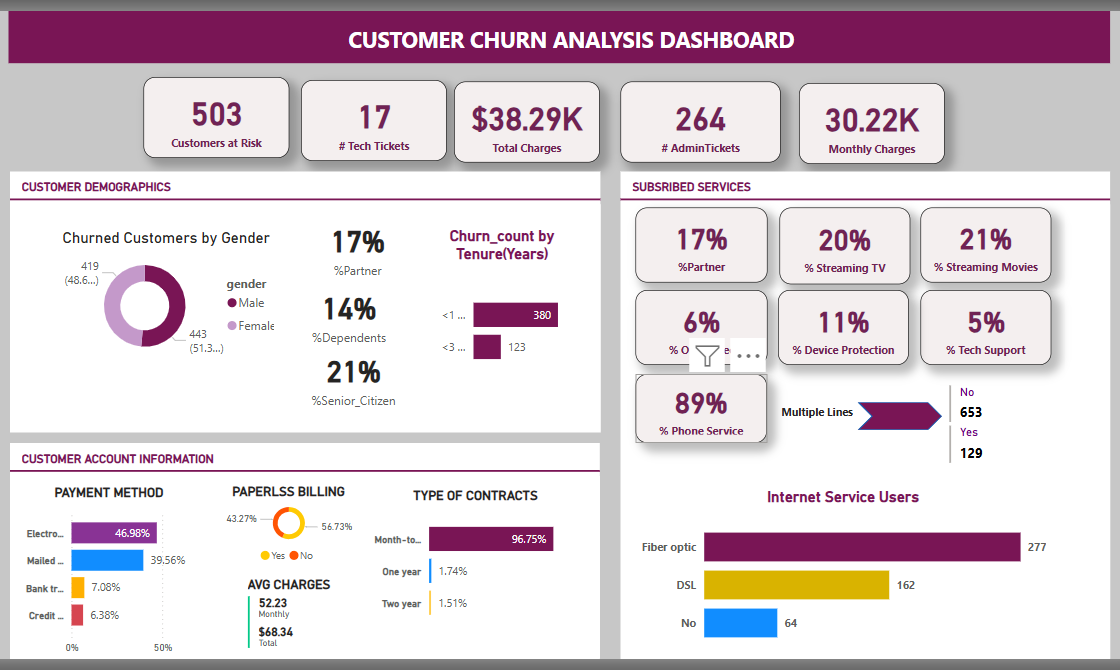

Layout of this report page (visuals, bound fields, positions):
{"tool":"powerbi","page":{"name":"Page 1","canvas":[1280,720],"ordinal":0},"visuals":[{"type":"card","fields":{"Values":["CountNonNull(ChurnData.customerID)"]},"box":[178,74,162,90],"z":0},{"type":"card","fields":{"Values":["Sum(ChurnData.numAdminTickets)"]},"box":[708,78,178,90],"z":1000},{"type":"card","fields":{"Values":["Sum(ChurnData.numTechTickets)"]},"box":[354,76,162,90],"z":2000},{"type":"card","fields":{"Values":["Sum(ChurnData.TotalCharges)"]},"box":[524,78,162,90],"z":3000},{"type":"card","fields":{"Values":["Sum(ChurnData.MonthlyCharges)"]},"box":[906,80,162,90],"z":4000},{"type":"shape","title":"CUSTOMER DEMOGRAPHICS","box":[30,178,656,290],"z":5000},{"type":"donutChart","title":"Churned Customers by Gender","fields":{"Y":["CountNonNull(ChurnData.customerID)"],"Category":["ChurnData.gender"]},"box":[83,241,257.2,151.9],"z":6000},{"type":"card","fields":{"Values":["All_measures.%Partner"]},"box":[344.3,224.8,141.8,74.9],"z":7000},{"type":"card","fields":{"Values":["All_measures.%Senior_Citizen"]},"box":[324.1,360.5,176.2,93.2],"z":8000},{"type":"card","fields":{"Values":["All_measures.%Dependents"]},"box":[324.1,295.7,166.1,83],"z":9000},{"type":"clusteredBarChart","fields":{"Category":["ChurnData.Tenure(Years)"],"Y":["All_measures.Churn_count"]},"box":[490.4,240.3,176.7,184.7],"z":10000},{"type":"shape","title":"SUBSRIBED SERVICES","box":[708,178,544,542],"z":11000},{"type":"multiRowCard","fields":{"Values":["Churn.MultipleLines","Churn.customerID"]},"box":[1068.7,406.4,92.3,100.4],"z":12000},{"type":"card","fields":{"Values":["All_measures.%Partner"]},"box":[725,218.3,146.7,83.3],"z":13000},{"type":"card","fields":{"Values":["All_measures.% Streaming TV"]},"box":[885,218.3,145,85],"z":14000},{"type":"card","fields":{"Values":["All_measures.% Streaming Movies"]},"box":[1041.7,218.3,145,83.3],"z":15000},{"type":"card","fields":{"Values":["All_measures.% Tech Support"]},"box":[1041.7,310,145,83.3],"z":16000},{"type":"card","fields":{"Values":["All_measures.% Online Sec"]},"box":[725,310,146.7,83.3],"z":17000},{"type":"card","fields":{"Values":["All_measures.% Device Protection"]},"box":[883.3,310,145,83.3],"z":18000},{"type":"card","fields":{"Values":["All_measures.% Phone Service"]},"box":[725.1,403,145.8,77],"z":19000},{"type":"shape","box":[971.5,425.9,93.9,47],"z":20000},{"type":"textbox","box":[885.7,430.7,98.8,37.2],"z":21000},{"type":"clusteredBarChart","title":"Internet Service Users","fields":{"Category":["Churn.InternetService"],"Y":["CountNonNull(Churn.customerID)"]},"box":[725.3,529.7,461.3,189.3],"z":22000},{"type":"shape","title":"CUSTOMER ACCOUNT INFORMATION","box":[30.2,480.4,655.3,240.2],"z":23000},{"type":"clusteredBarChart","title":"PAYMENT METHOD","fields":{"Y":["CountNonNull(Churn.PaymentMethod)"],"Category":["Churn.PaymentMethod"]},"box":[30,516,220,204],"z":24000},{"type":"donutChart","title":"PAPERLSS BILLING","fields":{"Category":["Churn.PaperlessBilling"],"Y":["CountNonNull(Churn.PaperlessBilling)"]},"box":[259.3,515.4,159.1,112.9],"z":25000},{"type":"multiRowCard","title":"AVG CHARGES","fields":{"Values":["Avg(Churn.MonthlyCharges)","Avg(Churn.TotalCharges)"]},"box":[288,618,140,102],"z":26000},{"type":"clusteredBarChart","title":"TYPE OF CONTRACTS","fields":{"Category":["Churn.Contract"],"Y":["CountNonNull(Churn.Contract)"]},"box":[418.3,515.4,257.7,176.6],"z":27000},{"type":"textbox","box":[28,0,1224,58],"z":28000}]}

Visuals, with their boxes on the page's 1280x720 design canvas (x1, y1, x2, y2). These are canvas units, not pixel positions in the 1120x670 screenshot, which may show the page scaled, cropped or inside an application window:
card - CountNonNull(ChurnData.customerID): pyautogui.locateOnScreen(178, 74, 340, 164)
card - Sum(ChurnData.numAdminTickets): pyautogui.locateOnScreen(708, 78, 886, 168)
card - Sum(ChurnData.numTechTickets): pyautogui.locateOnScreen(354, 76, 516, 166)
card - Sum(ChurnData.TotalCharges): pyautogui.locateOnScreen(524, 78, 686, 168)
card - Sum(ChurnData.MonthlyCharges): pyautogui.locateOnScreen(906, 80, 1068, 170)
"CUSTOMER DEMOGRAPHICS" shape: pyautogui.locateOnScreen(30, 178, 686, 468)
"Churned Customers by Gender" donutChart: pyautogui.locateOnScreen(83, 241, 340, 393)
card - All_measures.%Partner: pyautogui.locateOnScreen(344, 225, 486, 300)
card - All_measures.%Senior_Citizen: pyautogui.locateOnScreen(324, 360, 500, 454)
card - All_measures.%Dependents: pyautogui.locateOnScreen(324, 296, 490, 379)
clusteredBarChart - ChurnData.Tenure(Years) x All_measures.Churn_count: pyautogui.locateOnScreen(490, 240, 667, 425)
"SUBSRIBED SERVICES" shape: pyautogui.locateOnScreen(708, 178, 1252, 720)
multiRowCard - Churn.MultipleLines x Churn.customerID: pyautogui.locateOnScreen(1069, 406, 1161, 507)
card - All_measures.%Partner: pyautogui.locateOnScreen(725, 218, 872, 302)
card - All_measures.% Streaming TV: pyautogui.locateOnScreen(885, 218, 1030, 303)
card - All_measures.% Streaming Movies: pyautogui.locateOnScreen(1042, 218, 1187, 302)
card - All_measures.% Tech Support: pyautogui.locateOnScreen(1042, 310, 1187, 393)
card - All_measures.% Online Sec: pyautogui.locateOnScreen(725, 310, 872, 393)
card - All_measures.% Device Protection: pyautogui.locateOnScreen(883, 310, 1028, 393)
card - All_measures.% Phone Service: pyautogui.locateOnScreen(725, 403, 871, 480)
shape: pyautogui.locateOnScreen(972, 426, 1065, 473)
textbox: pyautogui.locateOnScreen(886, 431, 984, 468)
"Internet Service Users" clusteredBarChart: pyautogui.locateOnScreen(725, 530, 1187, 719)
"CUSTOMER ACCOUNT INFORMATION" shape: pyautogui.locateOnScreen(30, 480, 686, 721)
"PAYMENT METHOD" clusteredBarChart: pyautogui.locateOnScreen(30, 516, 250, 720)
"PAPERLSS BILLING" donutChart: pyautogui.locateOnScreen(259, 515, 418, 628)
"AVG CHARGES" multiRowCard: pyautogui.locateOnScreen(288, 618, 428, 720)
"TYPE OF CONTRACTS" clusteredBarChart: pyautogui.locateOnScreen(418, 515, 676, 692)
textbox: pyautogui.locateOnScreen(28, 0, 1252, 58)
